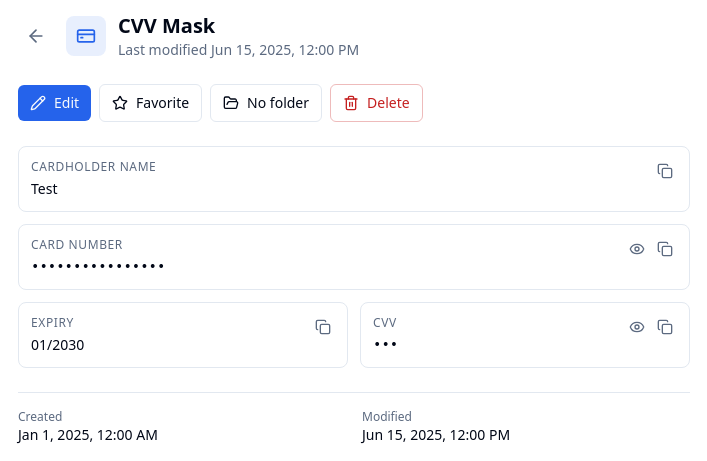
Test: VaultItemDetail › Field masking › CVV field on card items is masked by default
Expected: the text "999" is not shown
Find the one next to CVV (there might be multiple masked fields)
Click the button named "Reveal value" in the row of "01/2030" at (637, 327), box [625,315,649,339]
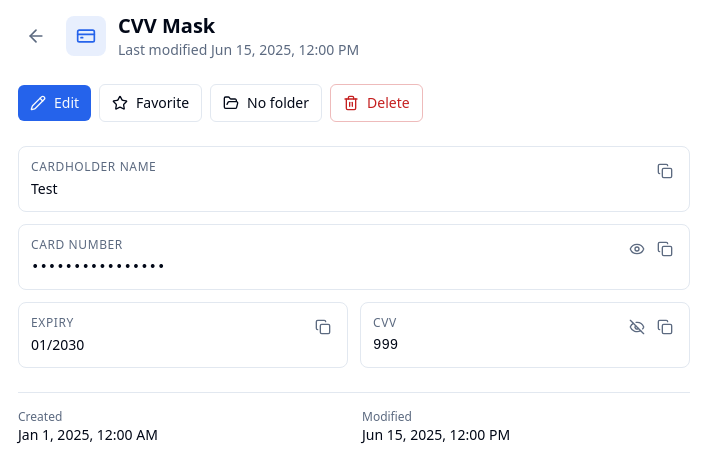
Result: the text "999" is shown at [373,337,398,353]
